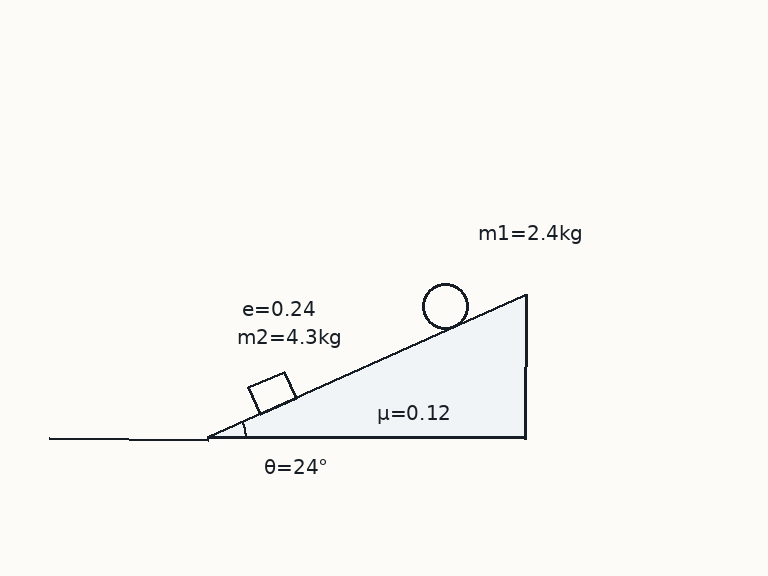ball: (420, 281, 470, 331)
block: (246, 370, 298, 416)
ramp: (204, 294, 528, 440)
